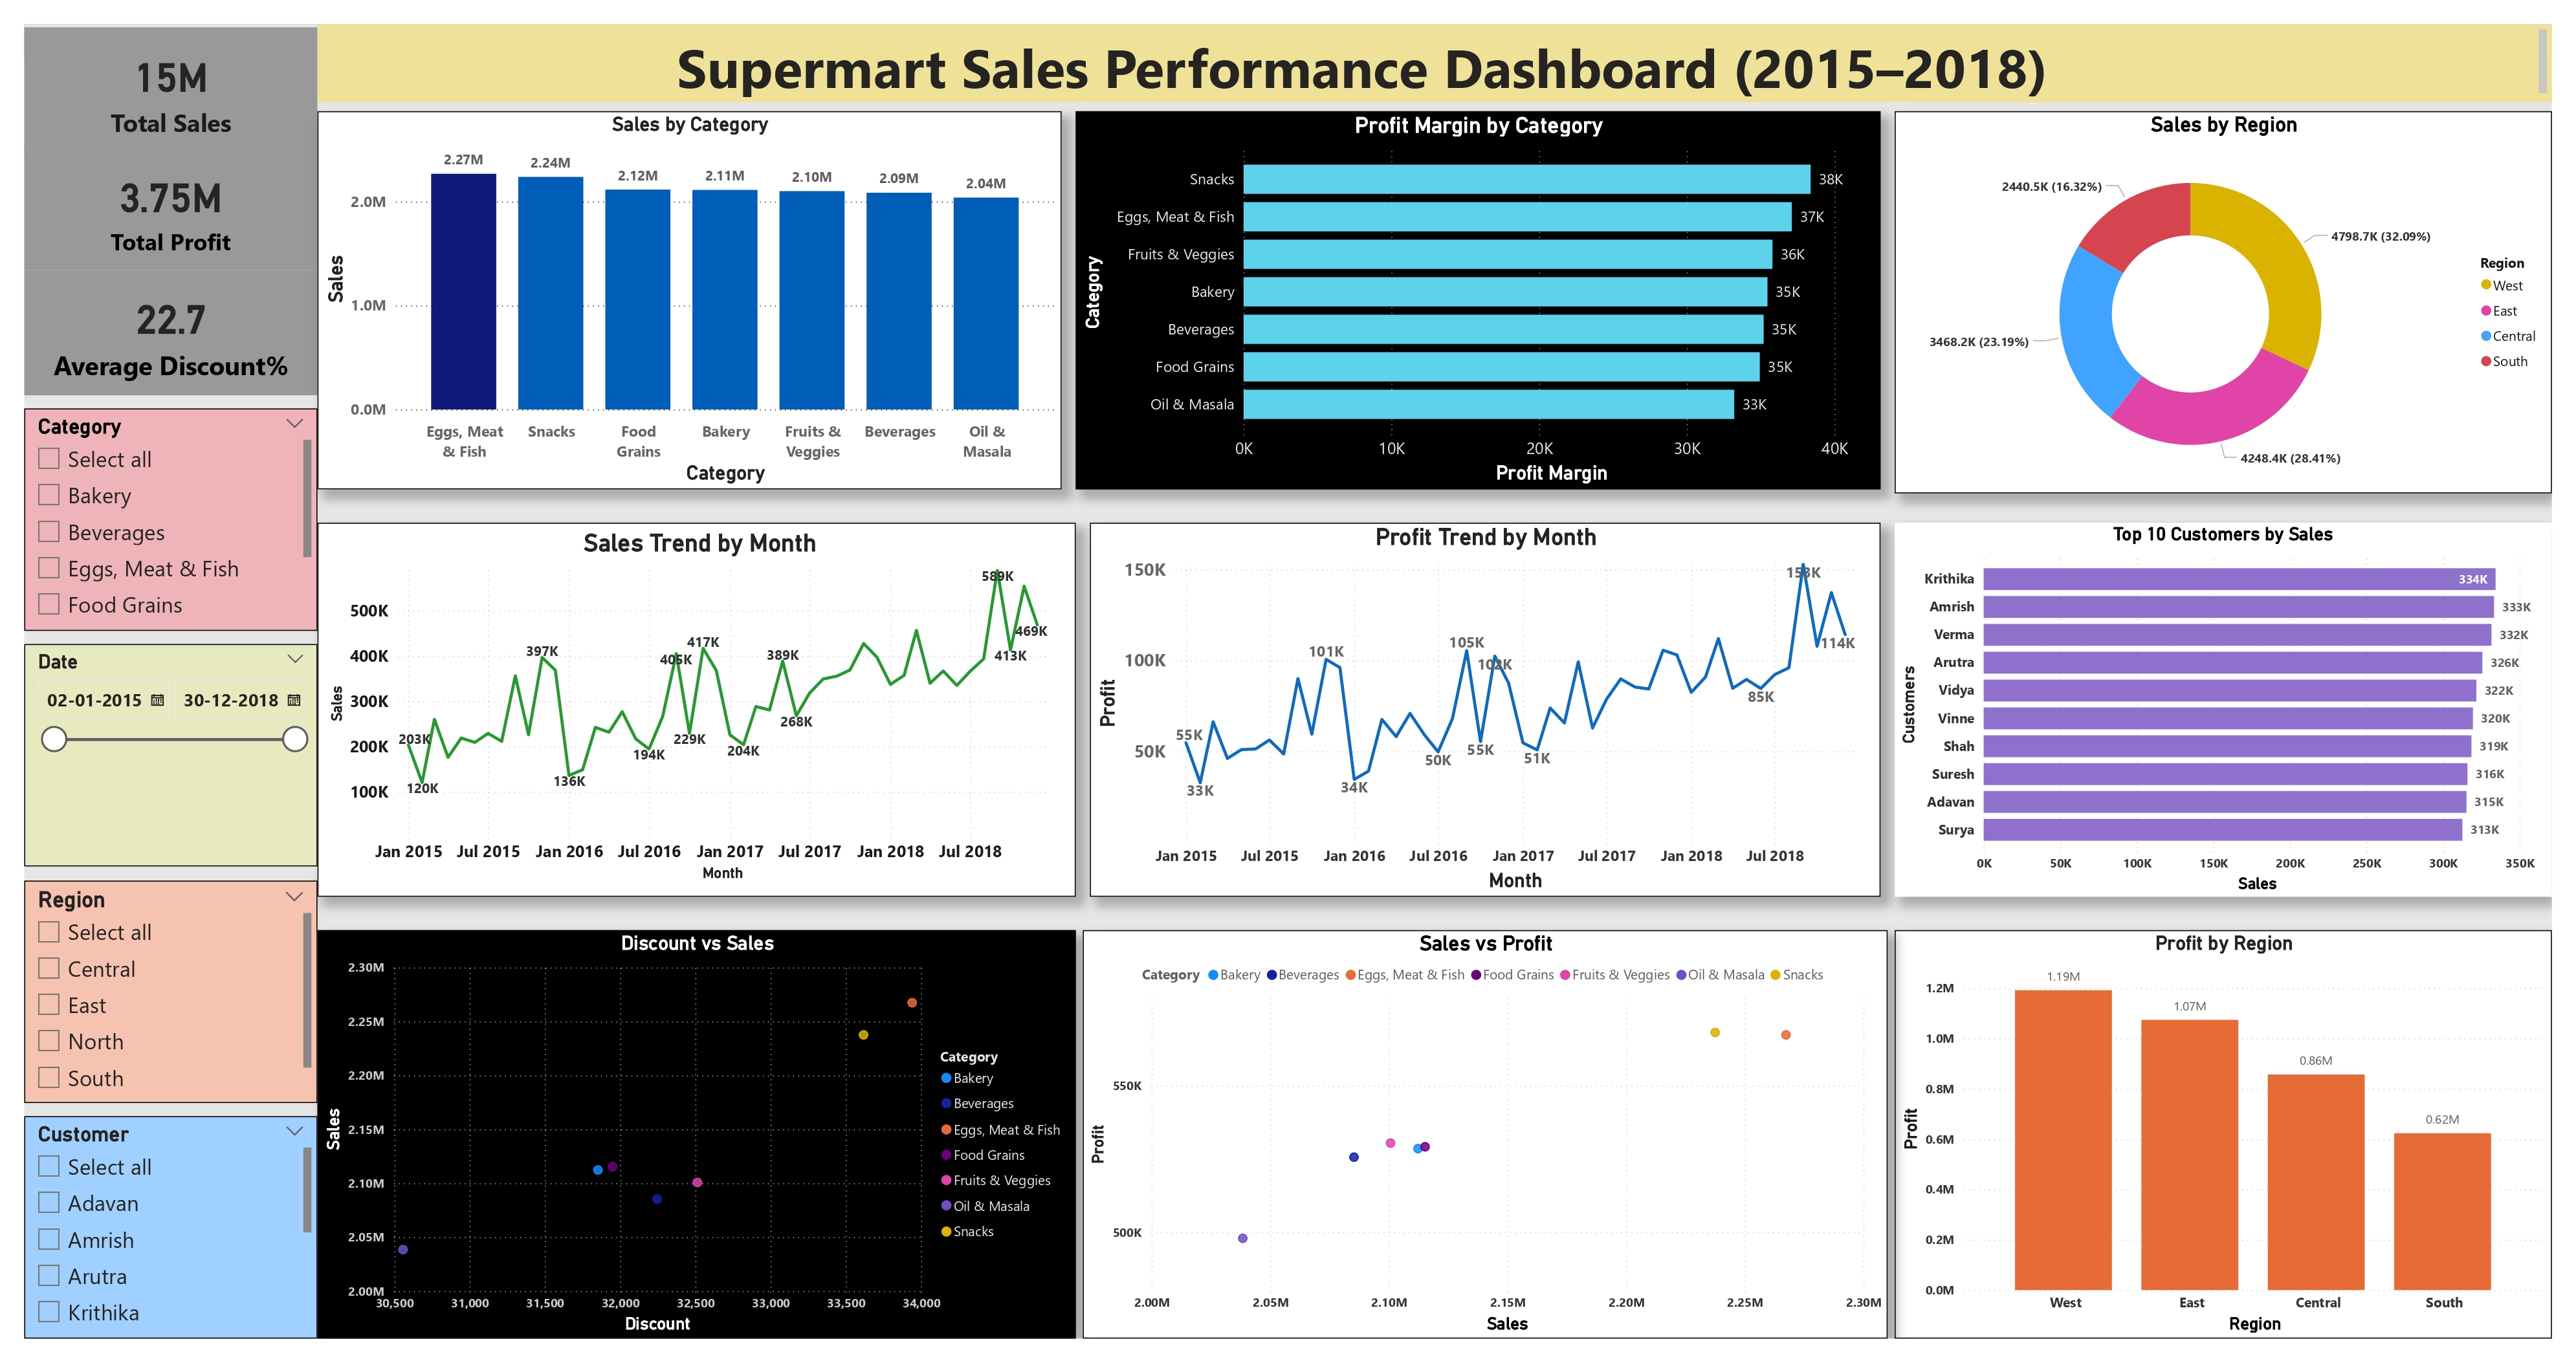

What the dashboard file says about the page in this screenshot:
{"tool":"powerbi","page":{"name":"Supermart Sales Dashboard","canvas":[3000,2000],"ordinal":0},"visuals":[{"type":"card","fields":{"Values":["cleaned_supermart_data.sales"]},"box":[0,136.7,495,200],"z":0},{"type":"card","fields":{"Values":["cleaned_supermart_data.profit"]},"box":[541.2,136.7,495,200],"z":1000},{"type":"card","fields":{"Values":["cleaned_supermart_data.profit_margin"]},"box":[1082.5,136.7,495,200],"z":2000},{"type":"textbox","box":[0,0,3000,135],"z":3000},{"type":"slicer","fields":{"Values":["cleaned_supermart_data.category"]},"box":[2670,383.3,330,170],"z":4000},{"type":"slicer","fields":{"Values":["cleaned_supermart_data.region"]},"box":[2670,551.7,330,165],"z":5000},{"type":"slicer","fields":{"Values":["cleaned_supermart_data.customer_name"]},"box":[2670,715,330,165],"z":6000},{"type":"card","fields":{"Values":["cleaned_supermart_data.order_id"]},"box":[1623.8,136.7,495,200],"z":7000},{"type":"card","fields":{"Values":["cleaned_supermart_data.customer_name"]},"box":[2165,135,495,200],"z":8000},{"type":"slicer","fields":{"Values":["cleaned_supermart_data.order_month_year"]},"box":[2670,135,330,250],"z":9000},{"type":"clusteredColumnChart","title":"Sales by Category","fields":{"Category":["cleaned_supermart_data.category"],"Y":["cleaned_supermart_data.sales"]},"box":[0,350,970,530],"z":10000},{"type":"barChart","title":"Profit Margin by Category","fields":{"Category":["cleaned_supermart_data.category"],"Y":["cleaned_supermart_data.profit_margin"]},"box":[1015,1470,970,530],"z":11000},{"type":"lineChart","title":"Sales Trend by Month","fields":{"Y":["cleaned_supermart_data.sales"],"Category":["cleaned_supermart_data.order_month_year.Variation.Date Hierarchy.Year","cleaned_supermart_data.order_month_year.Variation.Date Hierarchy.Quarter","cleaned_supermart_data.order_month_year.Variation.Date Hierarchy.Month","cleaned_supermart_data.order_month_year.Variation.Date Hierarchy.Day"]},"box":[0,910,970,530],"z":12000},{"type":"lineChart","title":"Profit Trend by Month","fields":{"Category":["cleaned_supermart_data.order_month_year.Variation.Date Hierarchy.Year","cleaned_supermart_data.order_month_year.Variation.Date Hierarchy.Quarter","cleaned_supermart_data.order_month_year.Variation.Date Hierarchy.Month","cleaned_supermart_data.order_month_year.Variation.Date Hierarchy.Day"],"Y":["cleaned_supermart_data.profit"]},"box":[1015,910,970,530],"z":13000},{"type":"donutChart","title":"Sales by Region","fields":{"Category":["cleaned_supermart_data.region"],"Y":["cleaned_supermart_data.sales"]},"box":[2030,350,630,530],"z":14000},{"type":"barChart","title":"Top 10 Customers by Sales","fields":{"Category":["cleaned_supermart_data.customer_name"],"Y":["cleaned_supermart_data.sales"]},"box":[0,1470,970,530],"z":15000},{"type":"clusteredColumnChart","title":"Profit by Region","fields":{"Category":["cleaned_supermart_data.region"],"Y":["cleaned_supermart_data.profit"]},"box":[1015,350,970,530],"z":16000},{"type":"scatterChart","title":"Sales vs Discount%","fields":{"Y":["cleaned_supermart_data.sales"],"X":["cleaned_supermart_data.discount_percent"]},"box":[2030,1470,970,530],"z":17000},{"type":"scatterChart","title":"Sales vs Profit","fields":{"Y":["cleaned_supermart_data.profit"],"X":["cleaned_supermart_data.sales"],"Series":["cleaned_supermart_data.category"]},"box":[2030,910,970,530],"z":18000}]}

Visuals, with their boxes on the page's 3000x2000 design canvas (x1, y1, x2, y2). These are canvas units, not pixel positions in the 2576x1363 screenshot, which may show the page scaled, cropped or inside an application window:
card - cleaned_supermart_data.sales: {"x1": 0, "y1": 137, "x2": 495, "y2": 337}
card - cleaned_supermart_data.profit: {"x1": 541, "y1": 137, "x2": 1036, "y2": 337}
card - cleaned_supermart_data.profit_margin: {"x1": 1082, "y1": 137, "x2": 1578, "y2": 337}
textbox: {"x1": 0, "y1": 0, "x2": 3000, "y2": 135}
slicer - cleaned_supermart_data.category: {"x1": 2670, "y1": 383, "x2": 3000, "y2": 553}
slicer - cleaned_supermart_data.region: {"x1": 2670, "y1": 552, "x2": 3000, "y2": 717}
slicer - cleaned_supermart_data.customer_name: {"x1": 2670, "y1": 715, "x2": 3000, "y2": 880}
card - cleaned_supermart_data.order_id: {"x1": 1624, "y1": 137, "x2": 2119, "y2": 337}
card - cleaned_supermart_data.customer_name: {"x1": 2165, "y1": 135, "x2": 2660, "y2": 335}
slicer - cleaned_supermart_data.order_month_year: {"x1": 2670, "y1": 135, "x2": 3000, "y2": 385}
"Sales by Category" clusteredColumnChart: {"x1": 0, "y1": 350, "x2": 970, "y2": 880}
"Profit Margin by Category" barChart: {"x1": 1015, "y1": 1470, "x2": 1985, "y2": 2000}
"Sales Trend by Month" lineChart: {"x1": 0, "y1": 910, "x2": 970, "y2": 1440}
"Profit Trend by Month" lineChart: {"x1": 1015, "y1": 910, "x2": 1985, "y2": 1440}
"Sales by Region" donutChart: {"x1": 2030, "y1": 350, "x2": 2660, "y2": 880}
"Top 10 Customers by Sales" barChart: {"x1": 0, "y1": 1470, "x2": 970, "y2": 2000}
"Profit by Region" clusteredColumnChart: {"x1": 1015, "y1": 350, "x2": 1985, "y2": 880}
"Sales vs Discount%" scatterChart: {"x1": 2030, "y1": 1470, "x2": 3000, "y2": 2000}
"Sales vs Profit" scatterChart: {"x1": 2030, "y1": 910, "x2": 3000, "y2": 1440}
